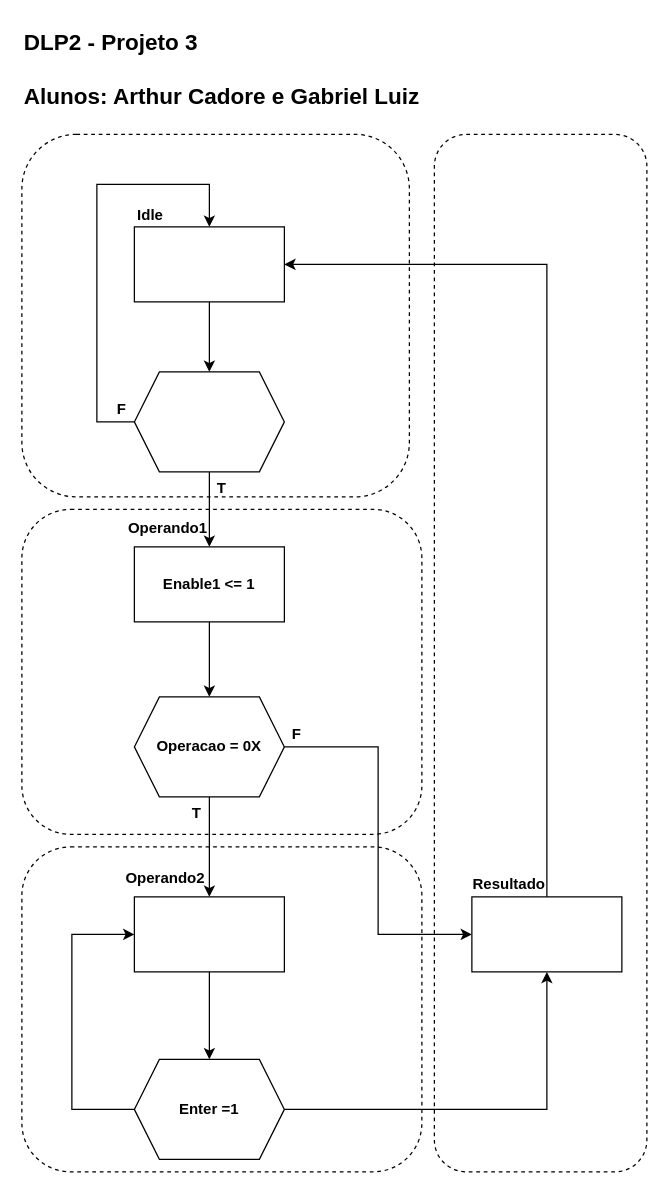
Some shapes in this 669 by 1194 pixel diagram are drawn without their labels. The shapes that lost their labels are listed below. From the top down, each one's centre as x and y in pixels, then its label:
point 208,421: Enter = 1
point 546,934: Enable2 <= 1
